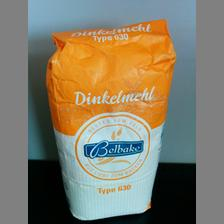Mehl: (43, 17, 176, 221)
